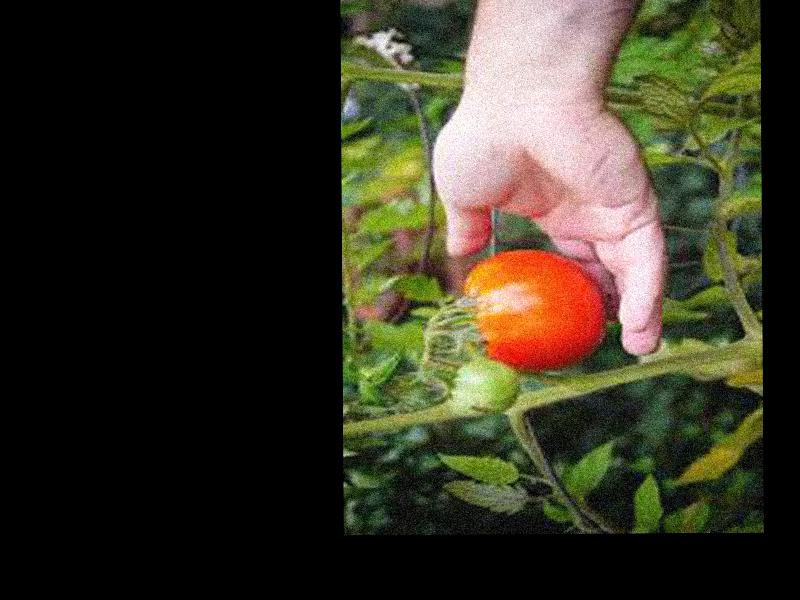Tomato: (459, 248, 605, 375)
